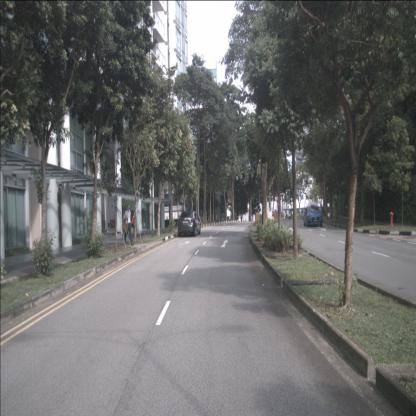human-pedestrian-adult: (123, 205, 135, 247)
movable_object-barrier: (254, 212, 261, 223), (274, 211, 280, 222), (266, 208, 271, 221), (270, 210, 273, 221), (272, 214, 275, 221)
vehicle-car: (178, 211, 201, 237), (303, 206, 323, 228)
